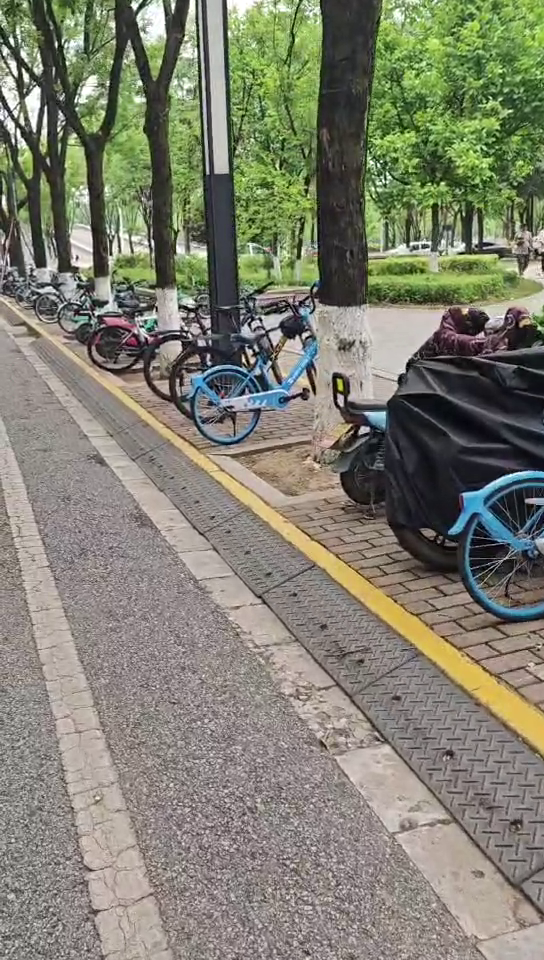others: (148, 284, 283, 380), (86, 290, 216, 361)
shared_bike_haluo: (198, 318, 332, 442)
